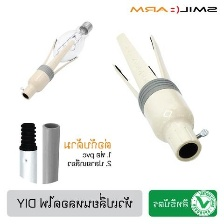light_bulb: (49, 16, 100, 65)
